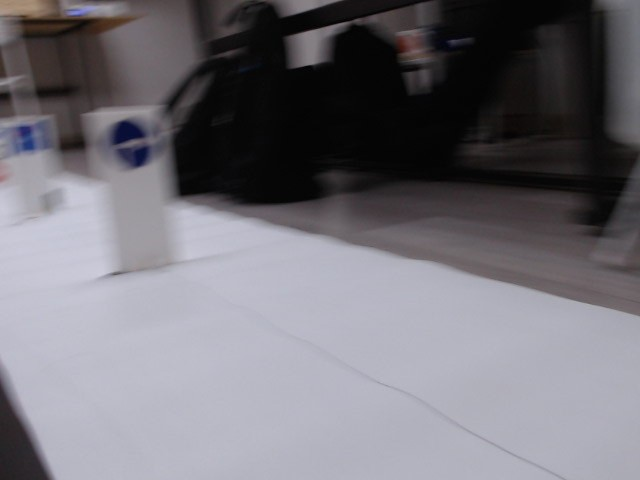Right: (106, 120, 158, 170)
